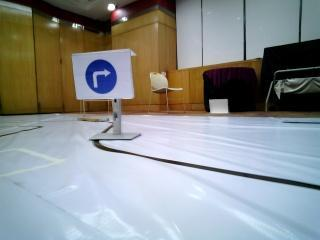right: (71, 56, 129, 98)
